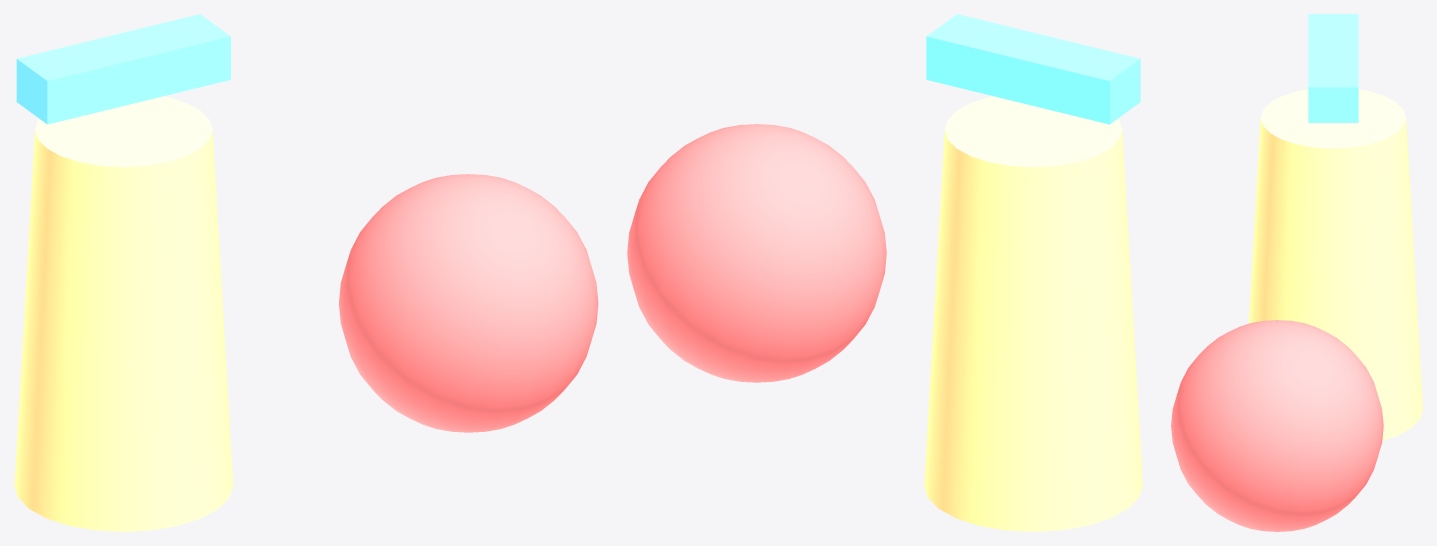
File: arabic-letters-stage.glb
3 views of the same model, side by side, from view 1: azimuth 30°, elevation 25°; view 2: azimuth 150°, elevation 25°; view 3: azimuth 270°, elevation 25° (orthographic). The views are drawn at different scales.
Parts seen in each view (by area): view 1: Letter_Pillar, Word_Model, Vowel_Fatha; view 2: Letter_Pillar, Word_Model, Vowel_Fatha; view 3: Letter_Pillar, Word_Model, Vowel_Fatha.
Boxes of the visible parts, bbox=[...] form: Letter_Pillar: bbox=[14, 96, 232, 531]; Word_Model: bbox=[339, 174, 598, 432]; Vowel_Fatha: bbox=[16, 14, 230, 124]; Letter_Pillar: bbox=[924, 96, 1142, 531]; Word_Model: bbox=[627, 124, 886, 382]; Vowel_Fatha: bbox=[926, 14, 1140, 124]; Letter_Pillar: bbox=[1248, 89, 1422, 440]; Word_Model: bbox=[1171, 320, 1383, 531]; Vowel_Fatha: bbox=[1308, 14, 1358, 122].
Bounding box in the file's own units: 1.75 × 1.41 × 0.9.
